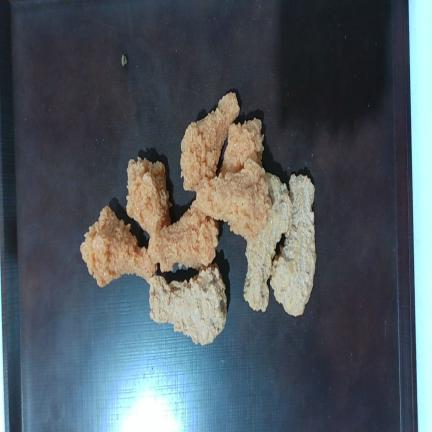chicken: (244, 173, 292, 311), (270, 174, 316, 316), (195, 160, 271, 241), (80, 206, 156, 287), (150, 264, 226, 344), (180, 93, 239, 190), (148, 200, 218, 271), (126, 157, 171, 236)
